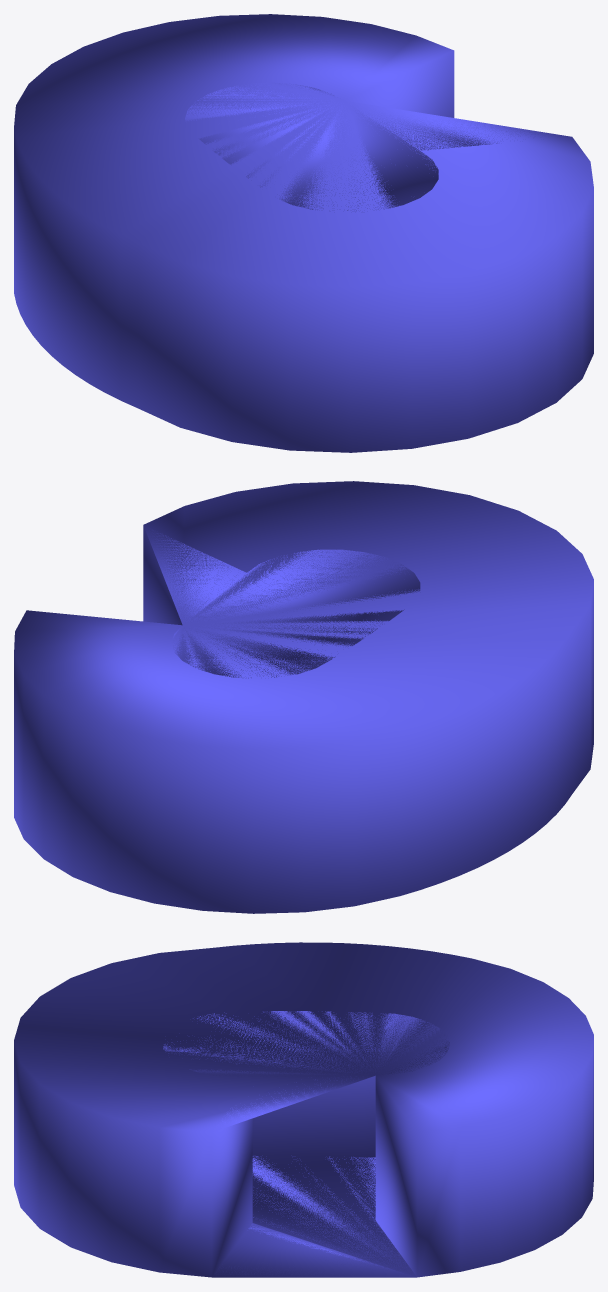
3 renders of one model, top to bottom at view 1: azimuth 30°, elevation 25°; view 2: azimuth 150°, elevation 25°; view 3: azimuth 270°, elevation 25°, orthographic. The views are drawn at different scales.
Visible parts, largest first — view 1: C1; view 2: C1; view 3: C1.
Part boxes in pixels (box(x1,y1,x2,y2)): C1: box(14, 14, 593, 452); C1: box(14, 481, 593, 913); C1: box(14, 942, 593, 1277).
Size of the model in its own units: 16.62 by 5.91 by 21.43.
